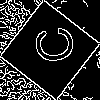C: (25, 25, 75, 66)
